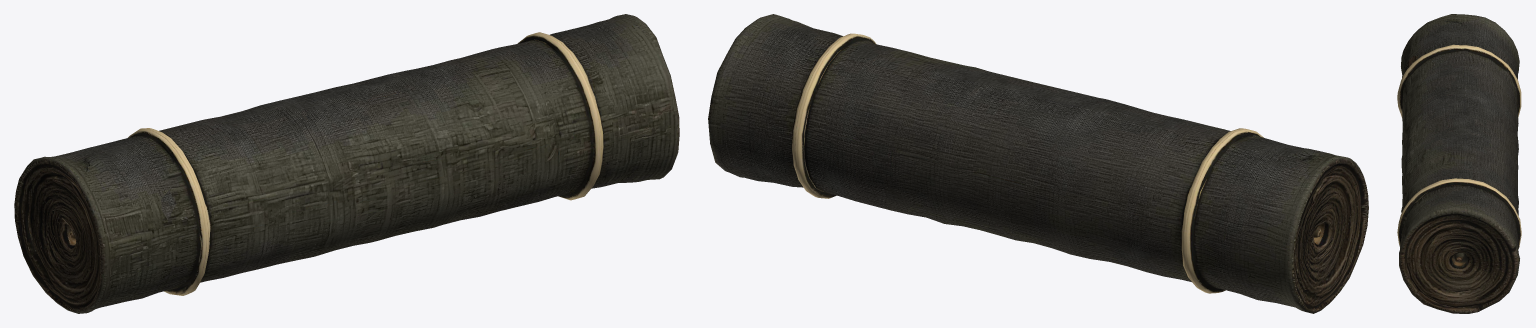
Rendered from tatami_mat_roll_3d_model_1.fbx.
The picture shows the model from 3 angles, left to right: view 1: azimuth 30°, elevation 25°; view 2: azimuth 150°, elevation 25°; view 3: azimuth 270°, elevation 25°; orthographic projection. The views are drawn at different scales.
Parts seen in each view (by area): view 1: tripo_node_4599994e; view 2: tripo_node_4599994e; view 3: tripo_node_4599994e.
Boxes of the visible parts, left/top/right/bottom form: tripo_node_4599994e: left=14, top=14, right=679, bottom=313; tripo_node_4599994e: left=708, top=14, right=1368, bottom=313; tripo_node_4599994e: left=1397, top=14, right=1521, bottom=313.
Size of the model in its own units: 0.9949 by 0.2471 by 0.2593.
